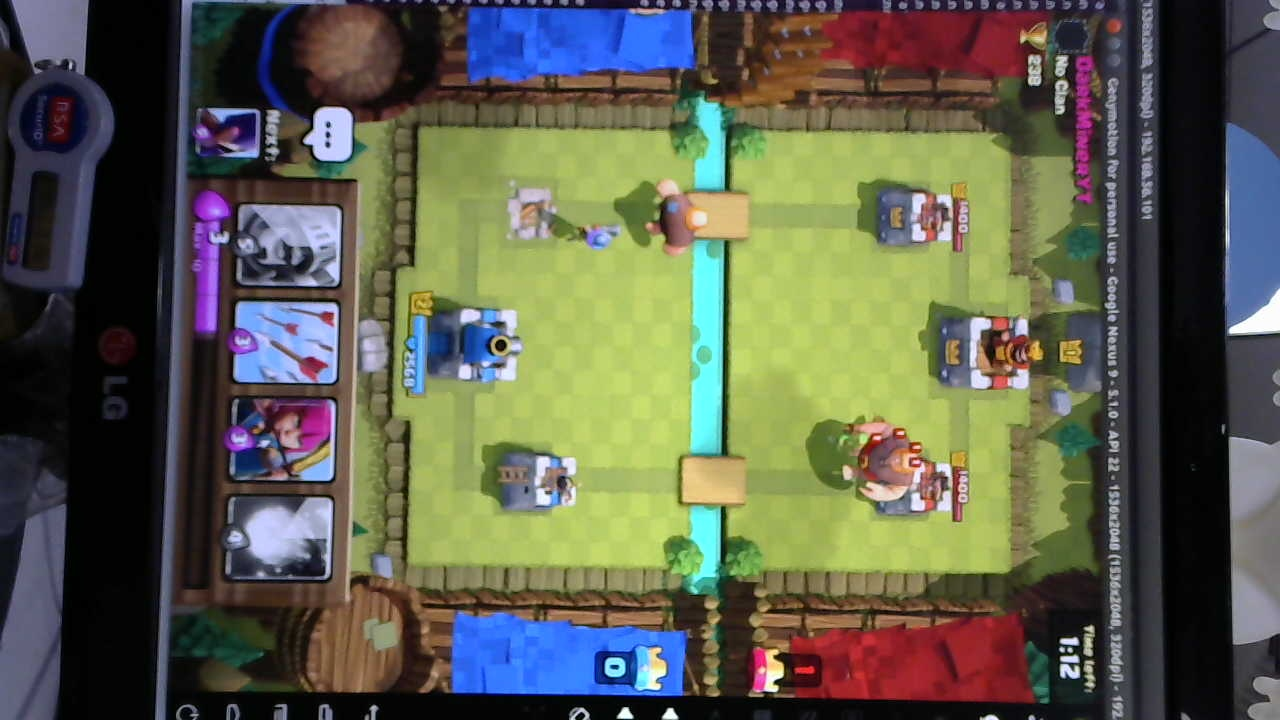arena: (497, 448, 580, 516)
darena: (504, 179, 559, 248)
earena: (869, 185, 955, 248), (873, 459, 954, 515)
eking: (930, 311, 1044, 395)
giant: (848, 417, 921, 502), (645, 175, 707, 257)
king: (430, 307, 522, 385)
musketeer: (567, 215, 627, 252)
